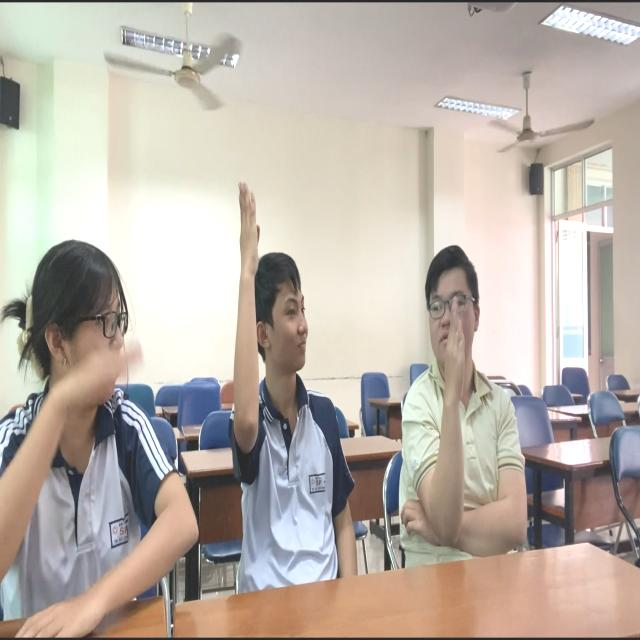raise_hand: (232, 173, 354, 577), (399, 238, 536, 563)
